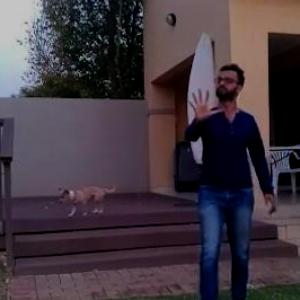follow_hand: (183, 82, 226, 128)
